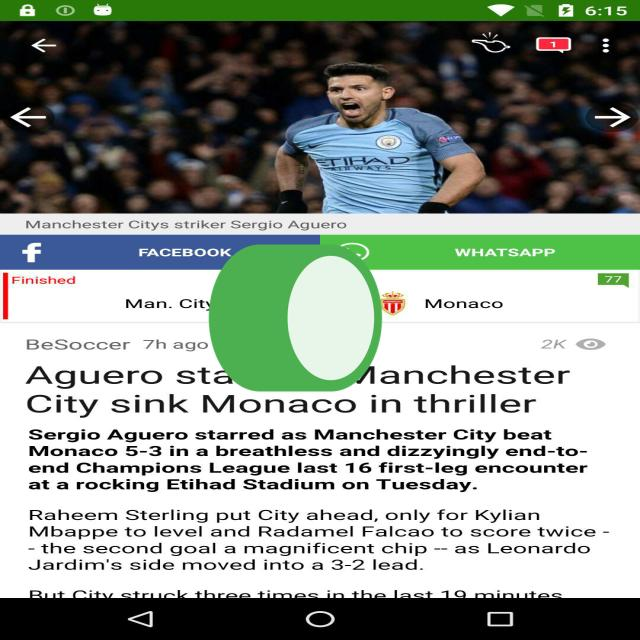social proof: (201, 188, 390, 459)
